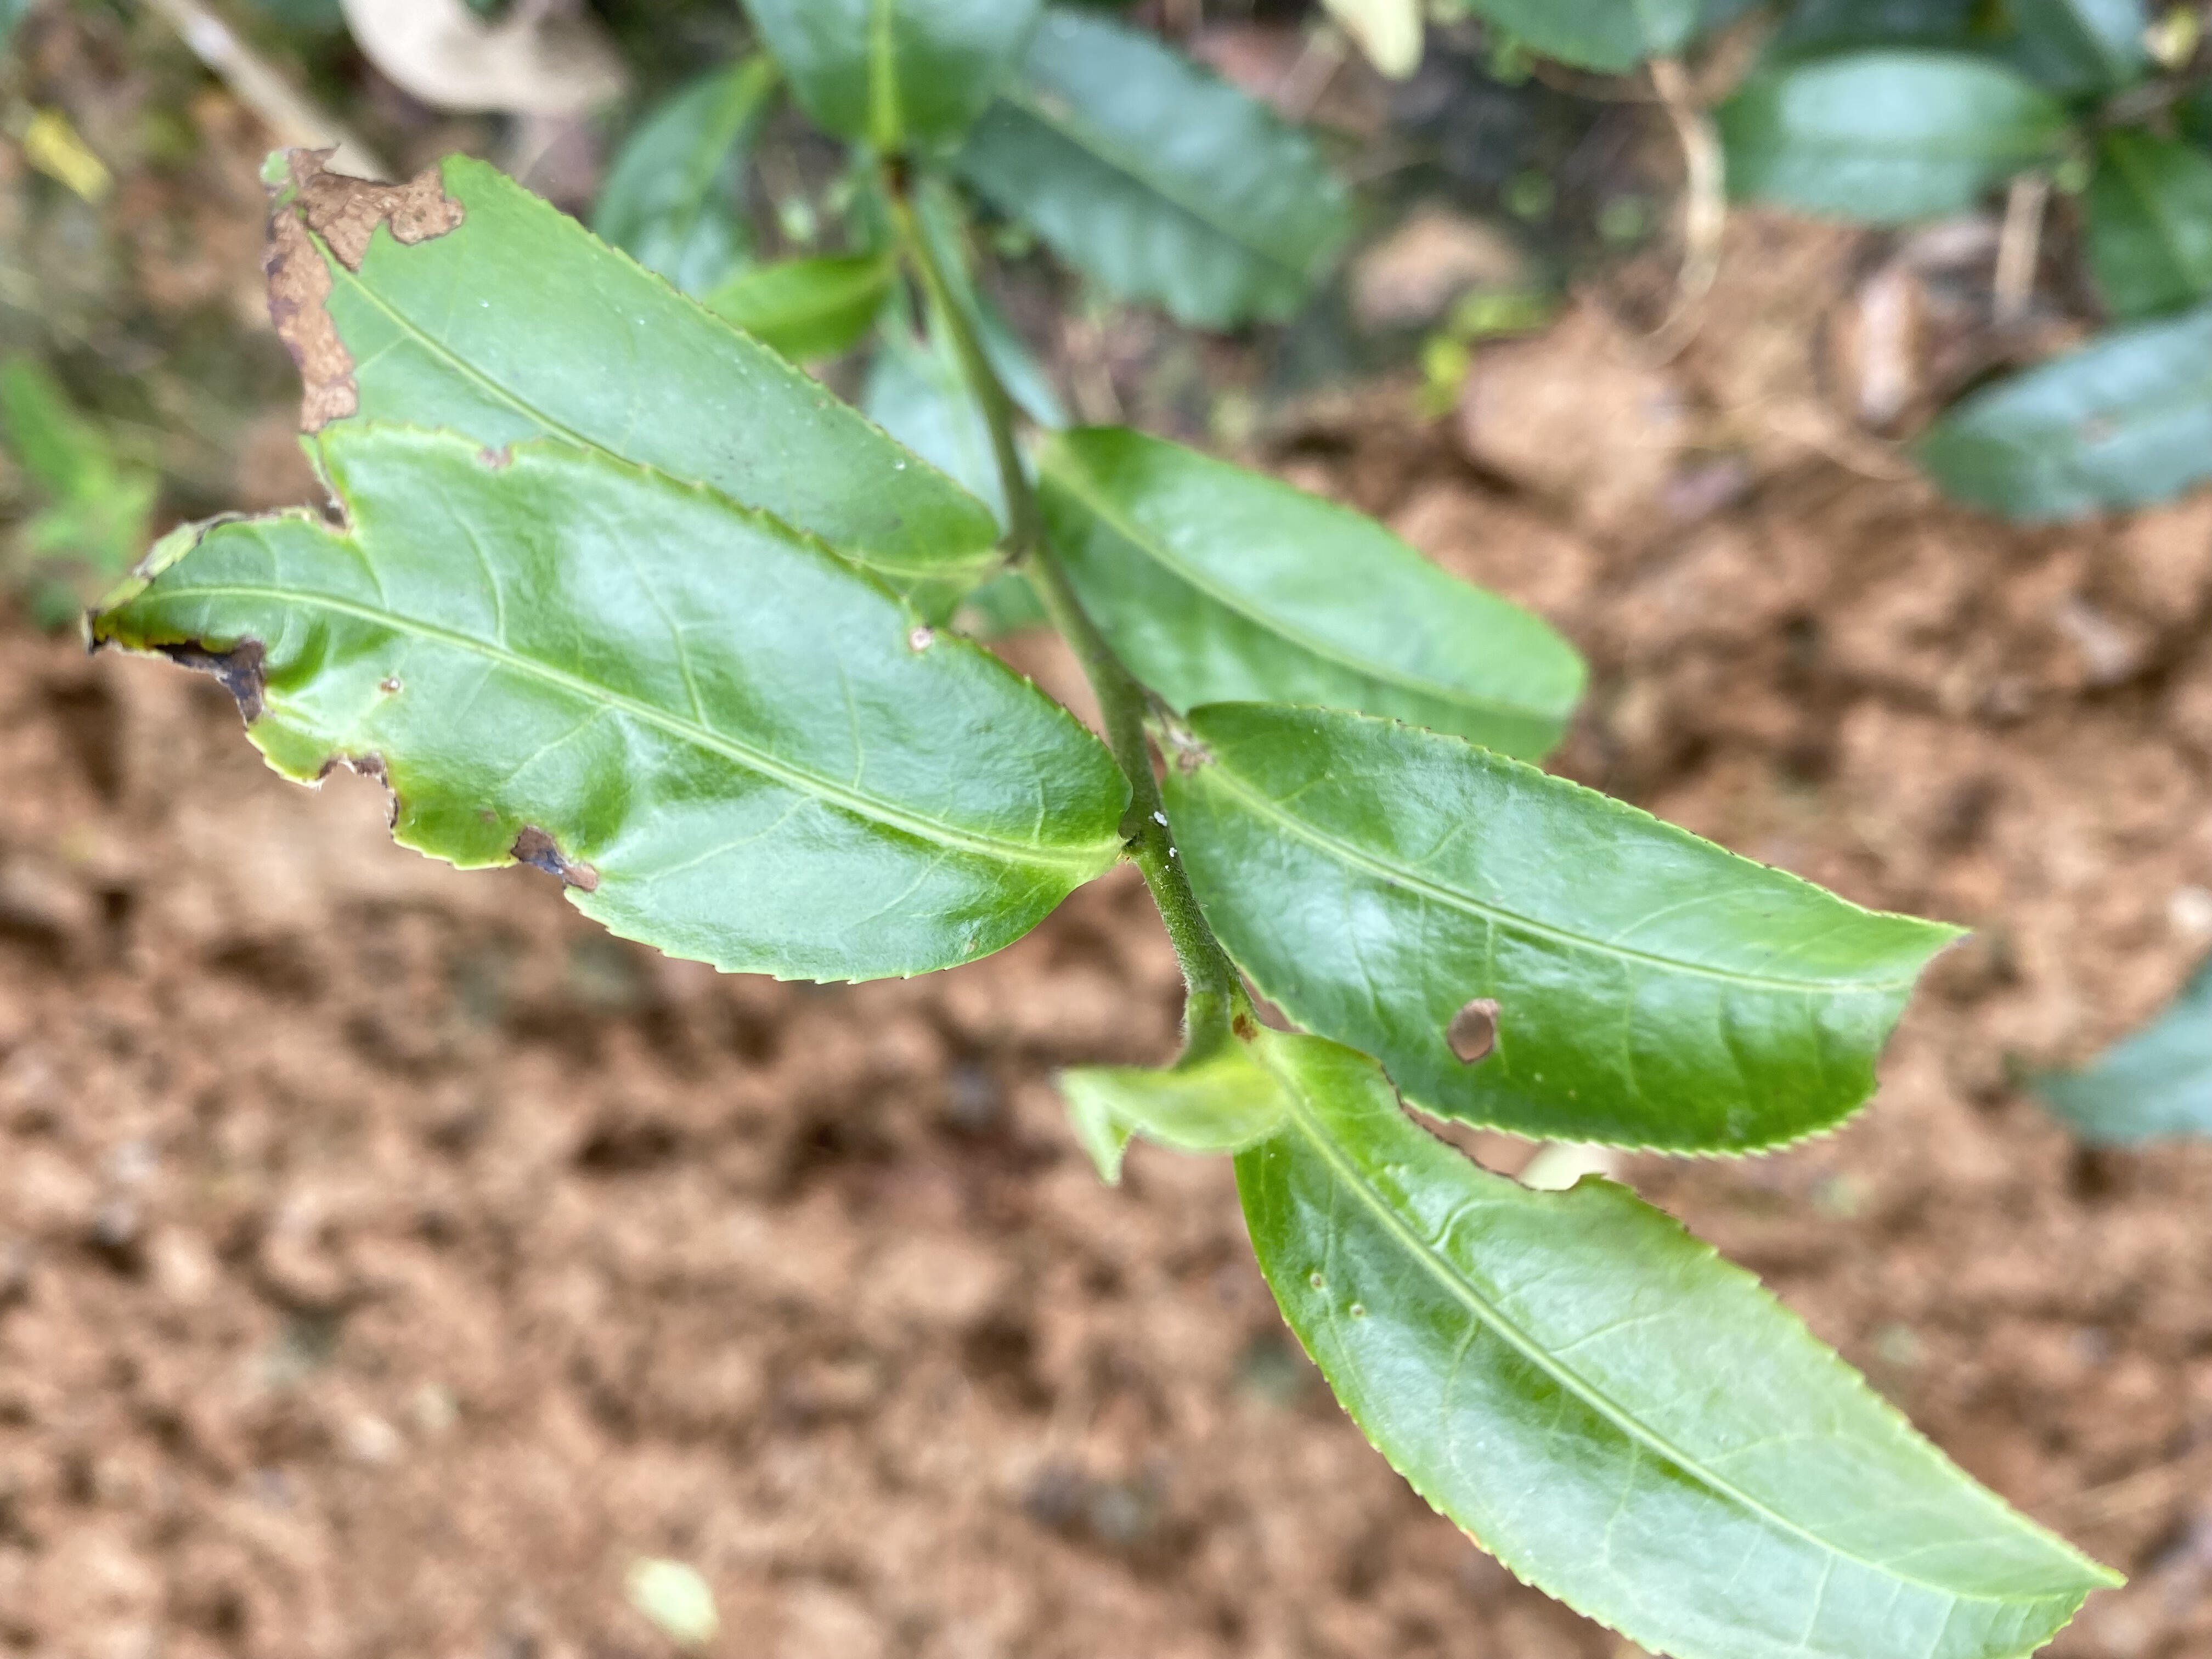chihuo_low: (1240, 1021, 2127, 1654), (1155, 702, 1973, 1161)
healthy: (1029, 425, 1587, 765)
tanju_high: (78, 422, 1130, 986), (258, 143, 1001, 631)
